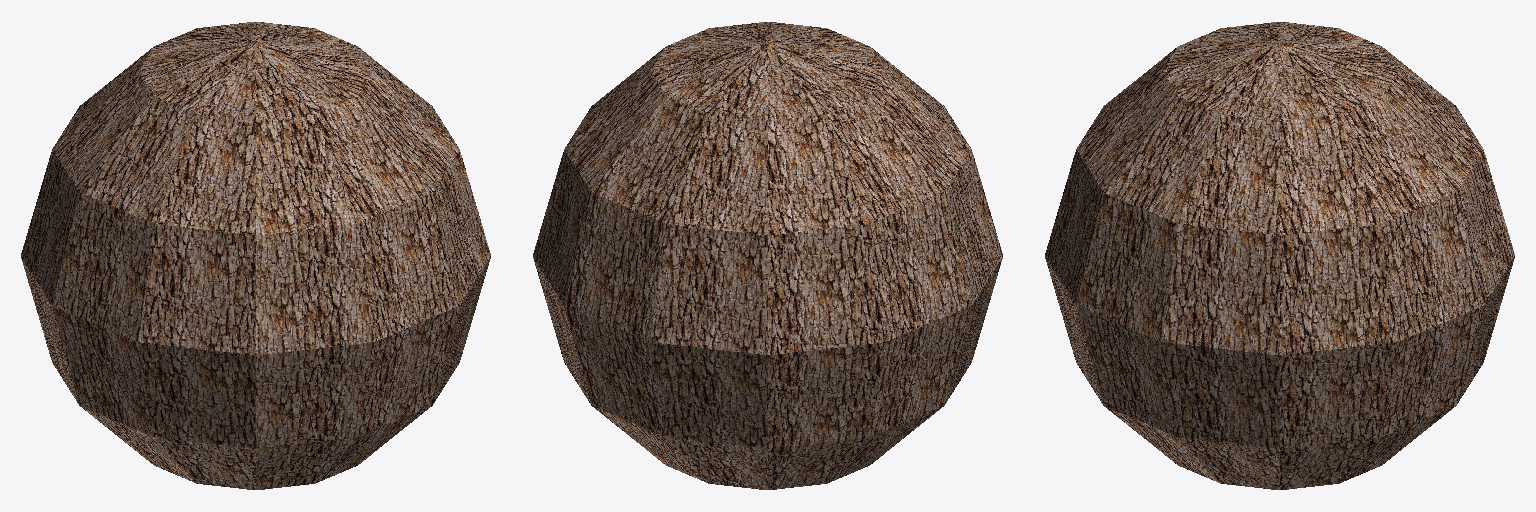
3 views of the same model, side by side, from view 1: azimuth 30°, elevation 25°; view 2: azimuth 150°, elevation 25°; view 3: azimuth 270°, elevation 25° (orthographic).
Parts seen in each view (by area): view 1: Mesh1 topiary Plant_Potted_Topiary1 Group1 Potted_Topiary1 Model; view 2: Mesh1 topiary Plant_Potted_Topiary1 Group1 Potted_Topiary1 Model; view 3: Mesh1 topiary Plant_Potted_Topiary1 Group1 Potted_Topiary1 Model.
Boxes of the visible parts, x1=… form: Mesh1 topiary Plant_Potted_Topiary1 Group1 Potted_Topiary1 Model: x1=21, y1=22, x2=490, y2=489; Mesh1 topiary Plant_Potted_Topiary1 Group1 Potted_Topiary1 Model: x1=533, y1=22, x2=1002, y2=489; Mesh1 topiary Plant_Potted_Topiary1 Group1 Potted_Topiary1 Model: x1=1045, y1=22, x2=1514, y2=489.
Bounding box in the file's own units: 0.813 × 0.813 × 0.813.
1 materials, 1 textured.